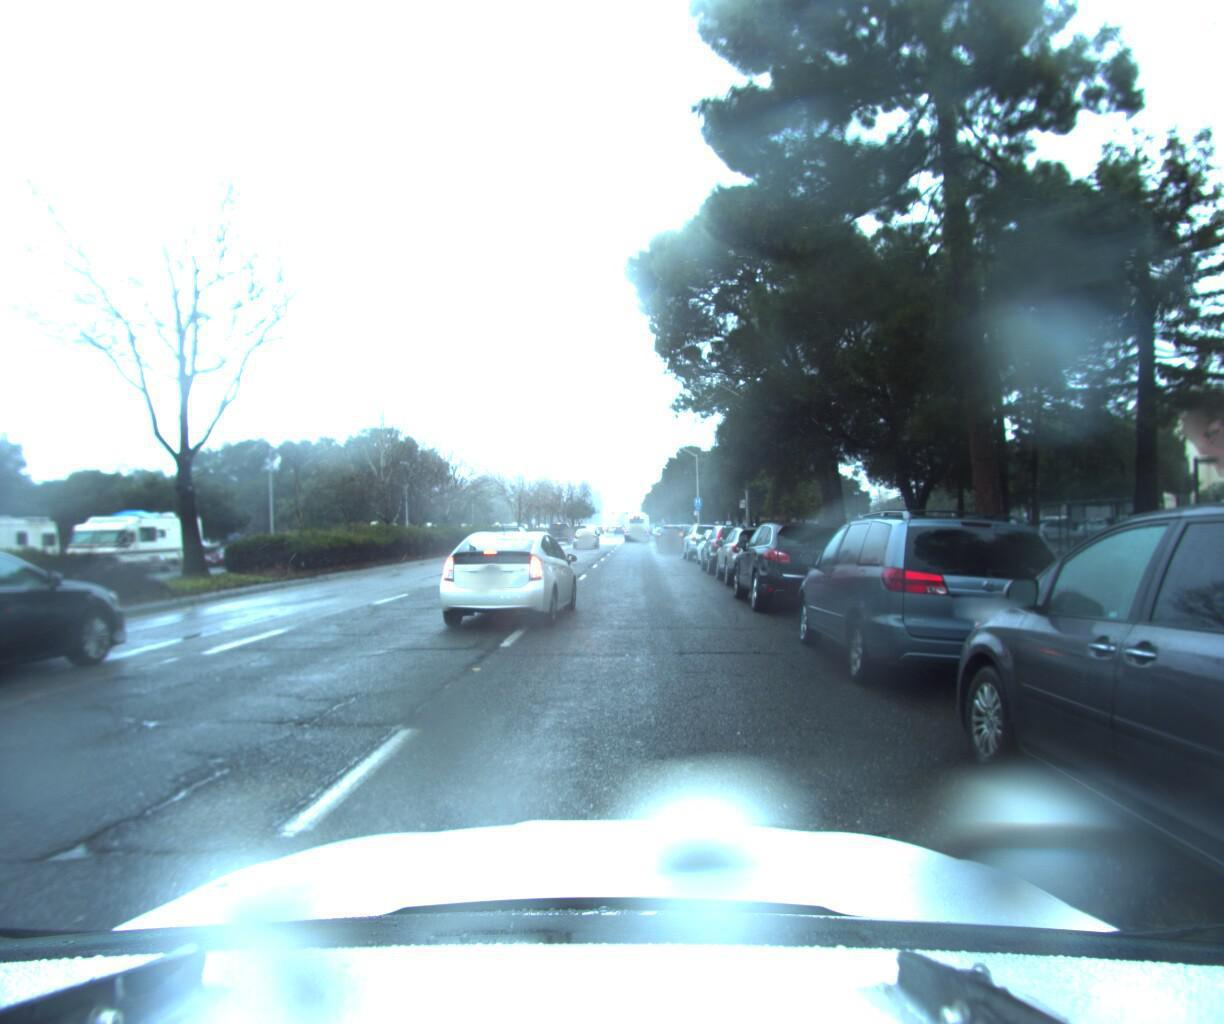bus: (623, 507, 652, 540)
car: (921, 384, 1224, 1024), (781, 498, 1114, 704), (0, 528, 158, 748), (435, 520, 585, 630), (726, 517, 874, 615), (710, 519, 803, 586), (699, 522, 769, 574), (680, 520, 729, 560), (645, 518, 703, 551), (206, 543, 264, 571), (495, 528, 534, 555), (572, 527, 602, 551), (547, 524, 578, 544)
other_vehicle: (61, 509, 212, 585), (0, 509, 71, 603)
